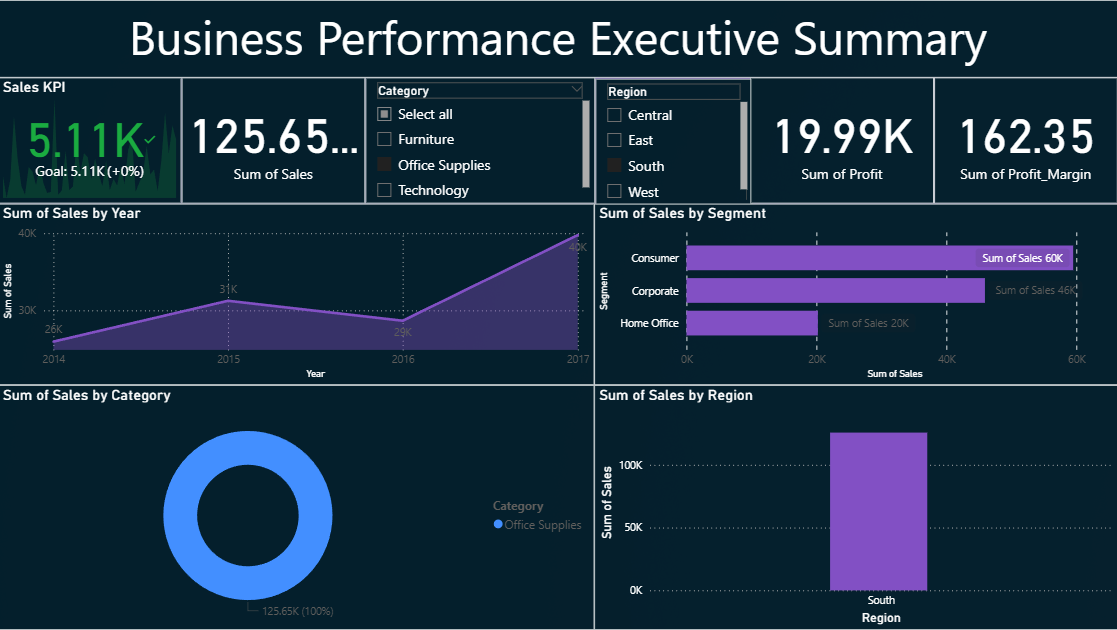

This screenshot's page, from the dashboard's own definition file:
{"tool":"powerbi","page":{"name":"Page 1","canvas":[1280,720],"ordinal":0},"visuals":[{"type":"lineChart","fields":{"Category":["Superstore_clean.MonthYear.Variation.Date Hierarchy.Year","Superstore_clean.MonthYear.Variation.Date Hierarchy.Quarter","Superstore_clean.MonthYear.Variation.Date Hierarchy.Month","Superstore_clean.MonthYear.Variation.Date Hierarchy.Day"],"Y":["Sum(Superstore_clean.Sales)"]},"box":[0,233.3,682,207.2],"z":0},{"type":"clusteredColumnChart","fields":{"Category":["Superstore_clean.Region"],"Y":["Sum(Superstore_clean.Sales)"]},"box":[682,440.5,598.3,279.9],"z":1000},{"type":"donutChart","fields":{"Category":["Superstore_clean.Category"],"Y":["Sum(Superstore_clean.Sales)"]},"box":[0,440.5,682,279.9],"z":2000},{"type":"kpi","title":"Sales KPI","fields":{"Indicator":["Sum(Superstore_clean.Sales)"],"TrendLine":["Superstore_clean.YearMonth"],"Goal":["Sum(Superstore_clean.Sales)"]},"box":[0,89.2,209.9,144.1],"z":3000},{"type":"slicer","fields":{"Values":["Superstore_clean.Region"]},"box":[682.9,89.6,179.1,144.3],"z":4000},{"type":"slicer","fields":{"Values":["Superstore_clean.Category"]},"box":[419.9,89.2,262.1,144.1],"z":5000},{"type":"card","fields":{"Values":["Sum(Superstore_clean.Sales)"]},"box":[209.9,89.2,209.9,144.1],"z":6000},{"type":"card","fields":{"Values":["Sum(Superstore_clean.Profit)"]},"box":[860.4,89.2,209.9,144.1],"z":7000},{"type":"card","fields":{"Values":["Sum(Superstore_clean.Profit_Margin)"]},"box":[1070.3,89.2,209.9,144.1],"z":8000},{"type":"clusteredBarChart","fields":{"Category":["Superstore_clean.Segment"],"Y":["Sum(Superstore_clean.Sales)"]},"box":[682,233.3,598.3,207.2],"z":9000},{"type":"textbox","box":[0,0,1280.3,89.2],"z":10000}]}

Visuals, with their boxes in screenshot pixels (x1, y1, x2, y2), scaled from the page's 1280x720 canvas onto the 1117x630 screenshot:
lineChart - Superstore_clean.MonthYear.Variation.Date Hierarchy.Year x Superstore_clean.MonthYear.Variation.Date Hierarchy.Quarter: pyautogui.locateOnScreen(0, 204, 595, 385)
clusteredColumnChart - Superstore_clean.Region x Sum(Superstore_clean.Sales): pyautogui.locateOnScreen(595, 385, 1116, 629)
donutChart - Superstore_clean.Category x Sum(Superstore_clean.Sales): pyautogui.locateOnScreen(0, 385, 595, 629)
"Sales KPI" kpi: pyautogui.locateOnScreen(0, 78, 183, 204)
slicer - Superstore_clean.Region: pyautogui.locateOnScreen(596, 78, 752, 205)
slicer - Superstore_clean.Category: pyautogui.locateOnScreen(366, 78, 595, 204)
card - Sum(Superstore_clean.Sales): pyautogui.locateOnScreen(183, 78, 366, 204)
card - Sum(Superstore_clean.Profit): pyautogui.locateOnScreen(751, 78, 934, 204)
card - Sum(Superstore_clean.Profit_Margin): pyautogui.locateOnScreen(934, 78, 1116, 204)
clusteredBarChart - Superstore_clean.Segment x Sum(Superstore_clean.Sales): pyautogui.locateOnScreen(595, 204, 1116, 385)
textbox: pyautogui.locateOnScreen(0, 0, 1116, 78)
